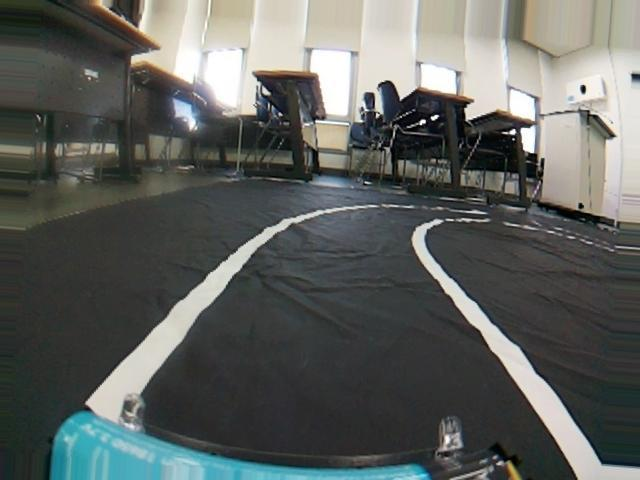straight: (34, 261, 640, 466)
